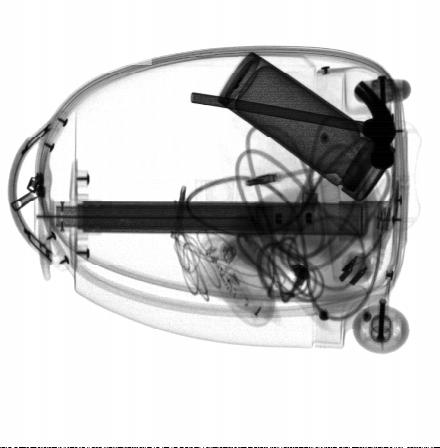Hammer: (190, 80, 397, 170)
